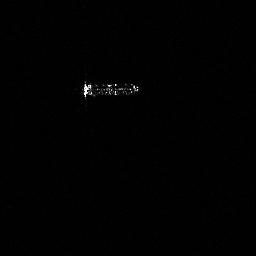ship: (82, 82, 136, 96)
